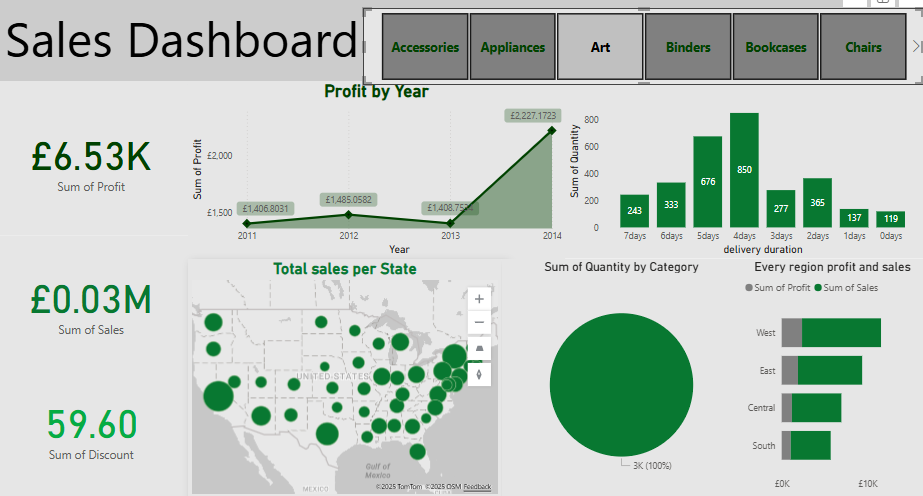

This screenshot's page, from the dashboard's own definition file:
{"tool":"powerbi","page":{"name":"Page 1","canvas":[1280,720],"ordinal":0},"visuals":[{"type":"shape","title":"    ","box":[0,0,1280,152.9],"z":0},{"type":"card","fields":{"Values":["Sum(Data.Profit)"]},"box":[0,147.3,267,213.3],"z":1000},{"type":"card","fields":{"Values":["Sum(Data.Discount)"]},"box":[0,527.1,267,192.7],"z":2000},{"type":"card","fields":{"Values":["Sum(Data.Sales)"]},"box":[0,360.6,267,181.7],"z":3000},{"type":"areaChart","title":"Profit by Year","fields":{"Category":["Data.Year"],"Y":["Sum(Data.Profit)"]},"box":[267,147.3,518.9,245],"z":4000},{"type":"azureMap","title":"Total sales per State","fields":{"Size":["Sum(Data.Sales)"],"Category":["Data.State"]},"box":[267,392.3,432.2,327.6],"z":5000},{"type":"pieChart","fields":{"Category":["Data.Category"],"Y":["Sum(Data.Quantity)"]},"box":[699.2,392.3,328.9,327.6],"z":6000},{"type":"slicer","fields":{"Values":["Data.Sub-Category"]},"box":[507.9,46.8,772.1,106],"z":7000},{"type":"clusteredColumnChart","fields":{"Category":["Data.delivery duration"],"Y":["Sum(Data.Quantity)"]},"box":[786,153,494,239],"z":8000},{"type":"barChart","title":"Every region profit and sales ","fields":{"Category":["Data.Region"],"Y":["Sum(Data.Profit)","Sum(Data.Sales)"]},"box":[1028,392,252,328],"z":9000}]}

Visuals, with their boxes on the page's 1280x720 design canvas (x1, y1, x2, y2). These are canvas units, not pixel positions in the 923x496 screenshot, which may show the page scaled, cropped or inside an application window:
"    " shape: 0, 0, 1280, 153
card - Sum(Data.Profit): 0, 147, 267, 361
card - Sum(Data.Discount): 0, 527, 267, 720
card - Sum(Data.Sales): 0, 361, 267, 542
"Profit by Year" areaChart: 267, 147, 786, 392
"Total sales per State" azureMap: 267, 392, 699, 720
pieChart - Data.Category x Sum(Data.Quantity): 699, 392, 1028, 720
slicer - Data.Sub-Category: 508, 47, 1280, 153
clusteredColumnChart - Data.delivery duration x Sum(Data.Quantity): 786, 153, 1280, 392
"Every region profit and sales " barChart: 1028, 392, 1280, 720
